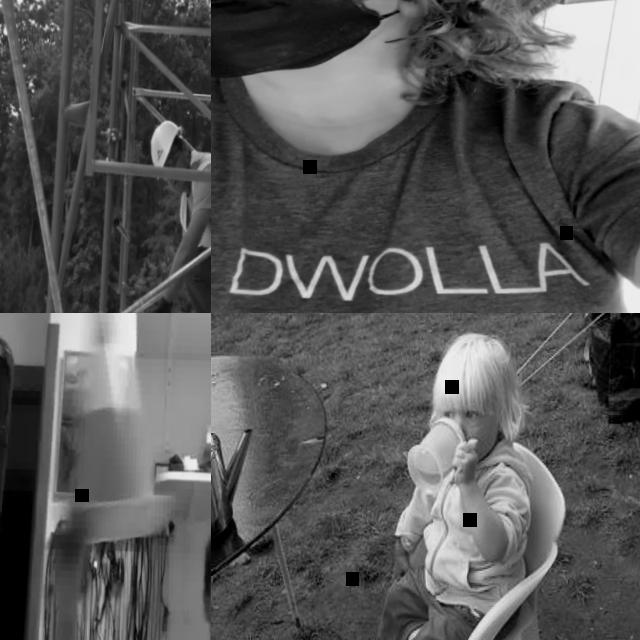Hardhat: (150, 118, 183, 179)
Mask: (211, 0, 410, 80)
NO-Hardhat: (432, 332, 520, 409)
NO-Mask: (454, 419, 499, 453), (171, 158, 188, 190)
NO-Safety Vest: (211, 65, 635, 313), (420, 453, 523, 604)
Person: (211, 0, 640, 313), (343, 326, 539, 640), (44, 501, 211, 640), (144, 116, 211, 313)
Safety Cone: (59, 313, 185, 554)
Safety Vest: (178, 145, 211, 247)
